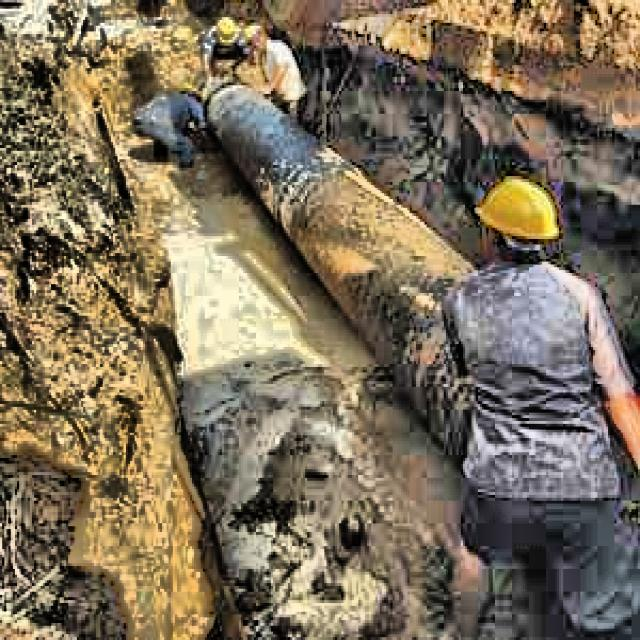helmet: (472, 170, 563, 264)
